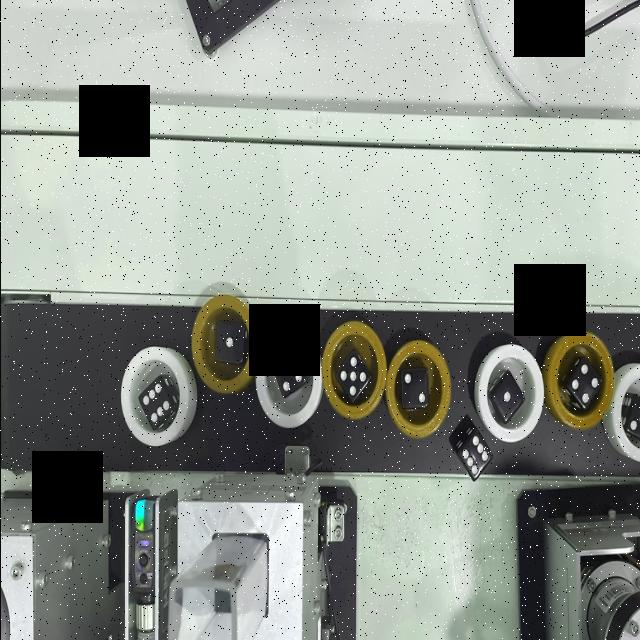DICE1: (492, 374, 518, 412), (218, 326, 240, 359)
DICE2: (400, 369, 428, 412)
DICE3: (627, 399, 640, 432)
DICE4: (568, 358, 596, 402), (276, 352, 302, 394)
DICE5: (338, 356, 366, 398)
DICE6: (458, 430, 488, 480), (141, 384, 169, 426)
RedChip: (546, 326, 610, 428), (192, 296, 256, 394), (322, 320, 384, 419), (386, 342, 448, 434)
WhiteChip: (119, 347, 194, 446), (255, 328, 319, 427), (475, 345, 541, 439), (610, 356, 640, 458)
